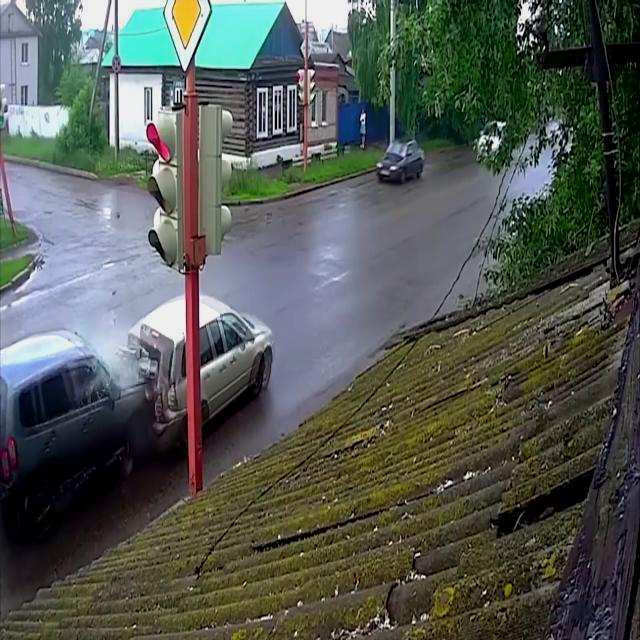accident: (2, 296, 274, 542)
